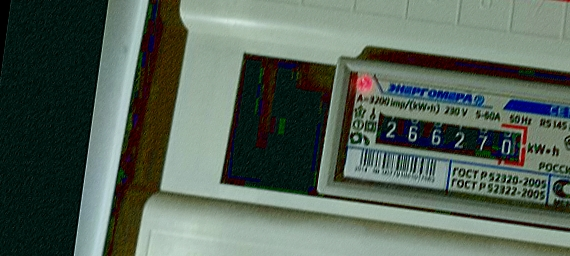0: (497, 135, 511, 156)
2: (381, 117, 398, 140), (451, 129, 465, 150)
6: (404, 122, 419, 144), (428, 126, 443, 146)
7: (474, 132, 488, 152)
screen: (359, 98, 538, 177)
